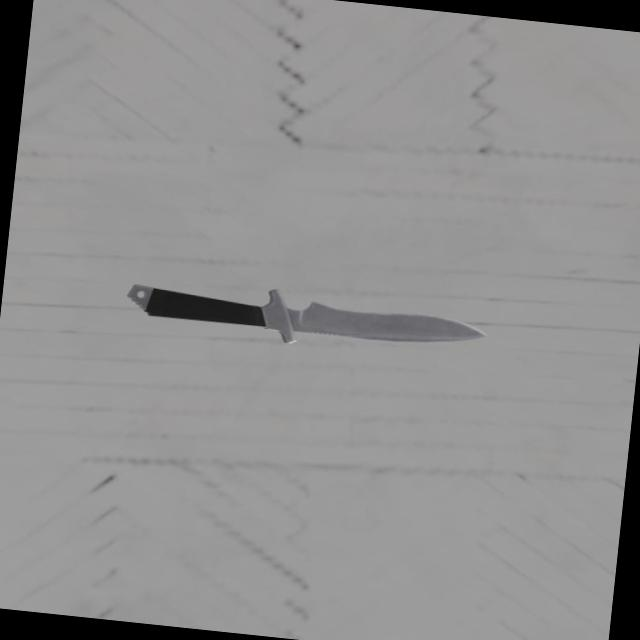knife: (138, 286, 270, 327)
